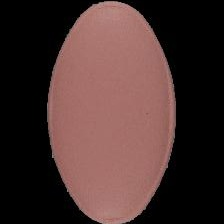68788-9868: (0, 0, 224, 224)
